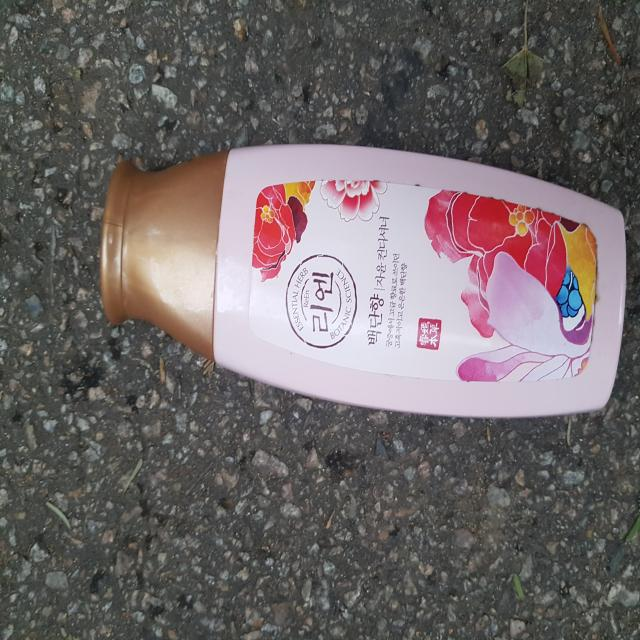bottle: (96, 139, 629, 418)
